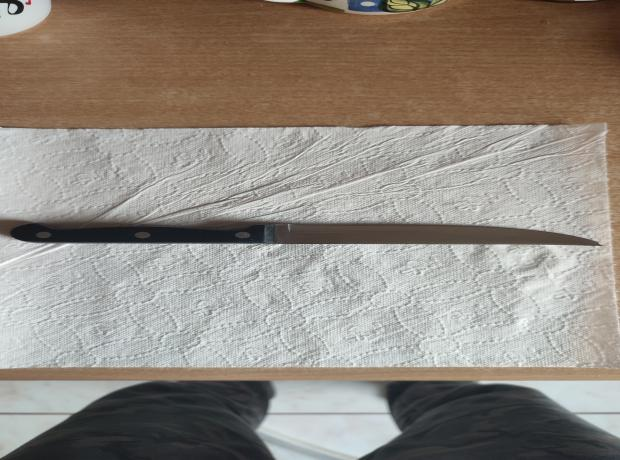metal: (8, 223, 606, 246)
